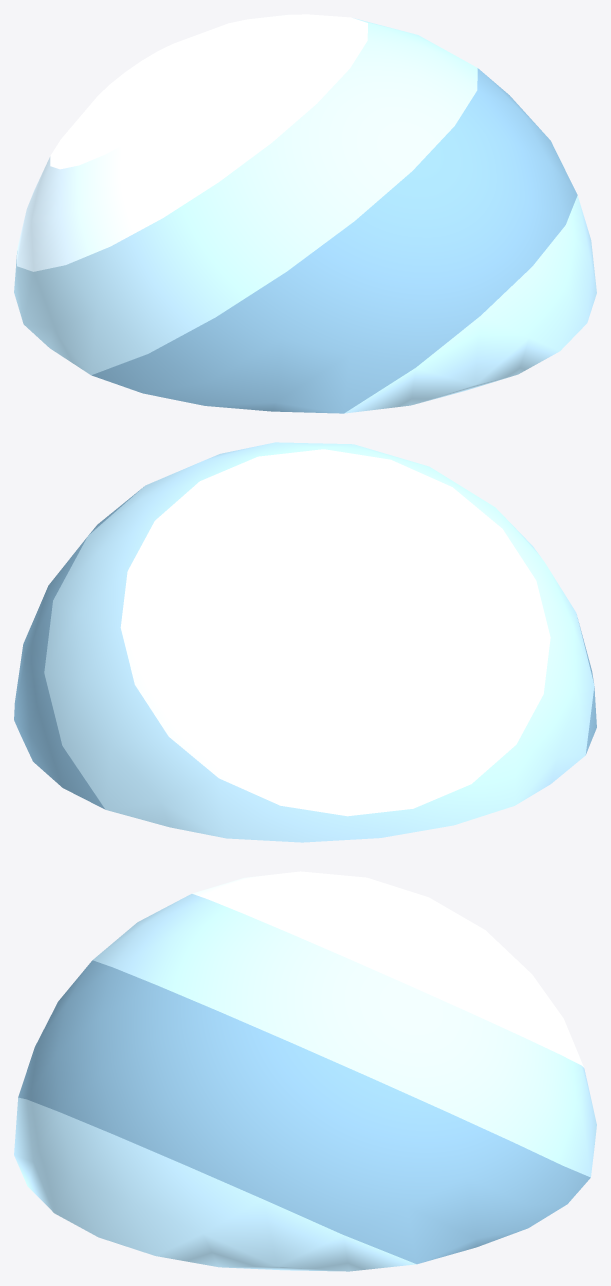
File: shot_special_ball_128.glb
3 views of the same model, one above another, from view 1: azimuth 30°, elevation 25°; view 2: azimuth 150°, elevation 25°; view 3: azimuth 270°, elevation 25° (orthographic).
Visible parts, largest first — view 1: shot_special_ball_128_ball; view 2: shot_special_ball_128_ball; view 3: shot_special_ball_128_ball.
Part boxes in pixels (x1,y1,x2,y2): shot_special_ball_128_ball: (14, 14, 596, 413); shot_special_ball_128_ball: (14, 442, 596, 842); shot_special_ball_128_ball: (14, 871, 596, 1271).
Bounding box in the file's own units: 10.55 × 4.98 × 10.55.
